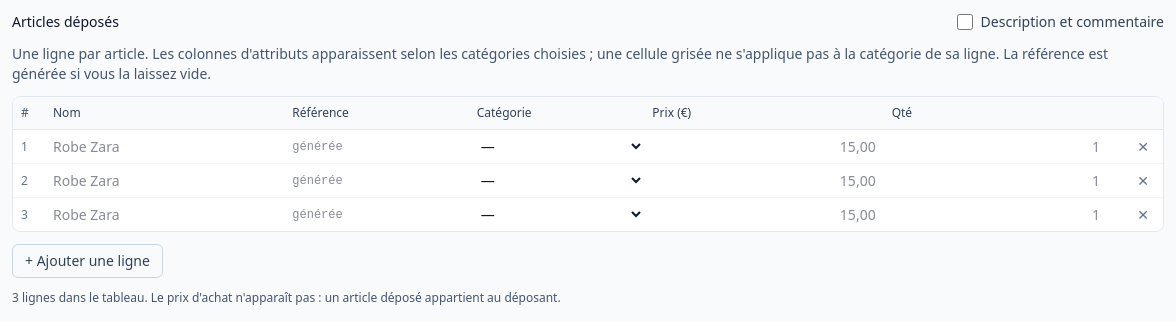
Test: ContractLines › nomme les cellules d’attribut pour que l’action les retrouve
The width and height of the screenshot is (1176, 322).
Select "└ Robe" in the dropdown named "Catégorie de l'article 1" at (556, 146), box [469,130,644,163]
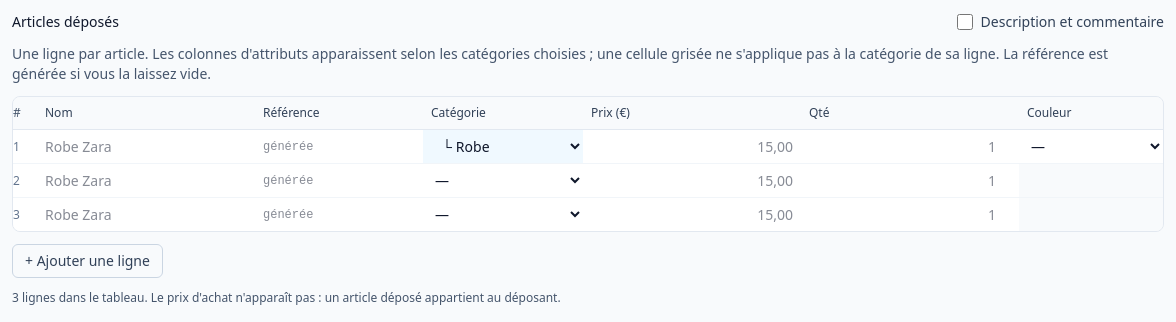
Expected: the 2nd dropdown is shown, [1019,130,1163,163]
